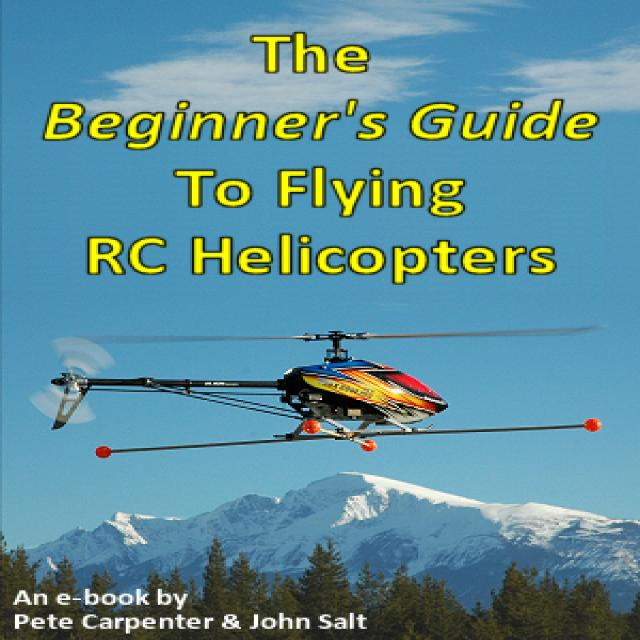helicopter: (42, 328, 609, 453)
